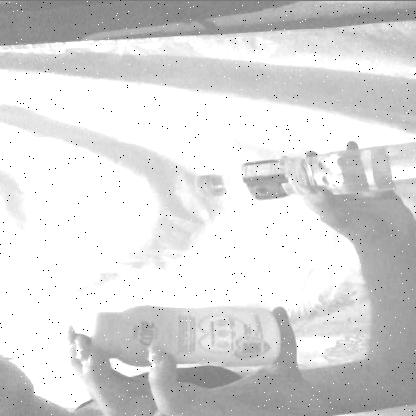Plastic Bottle: (153, 110, 409, 229)
